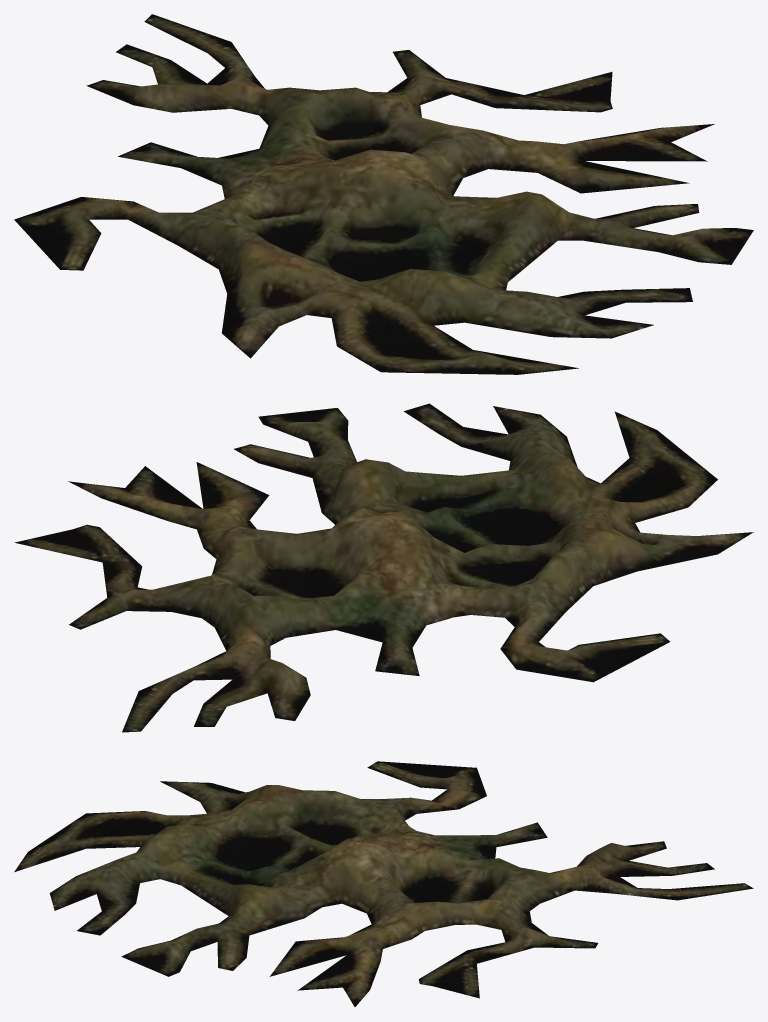
File: Biomass - 12-J4reojlG.glb
3 views of the same model, one above another, from view 1: azimuth 30°, elevation 25°; view 2: azimuth 150°, elevation 25°; view 3: azimuth 270°, elevation 25° (orthographic). The views are drawn at different scales.
Parts seen in each view (by area): view 1: Biomass_12; view 2: Biomass_12; view 3: Biomass_12.
Boxes of the visible parts, bbox=[...] form: Biomass_12: bbox=[14, 14, 753, 374]; Biomass_12: bbox=[15, 403, 753, 732]; Biomass_12: bbox=[14, 761, 753, 1006].
Size of the model in its own units: 2.11 by 0.1468 by 2.67.
Materials: 1 (1 with a texture image).
